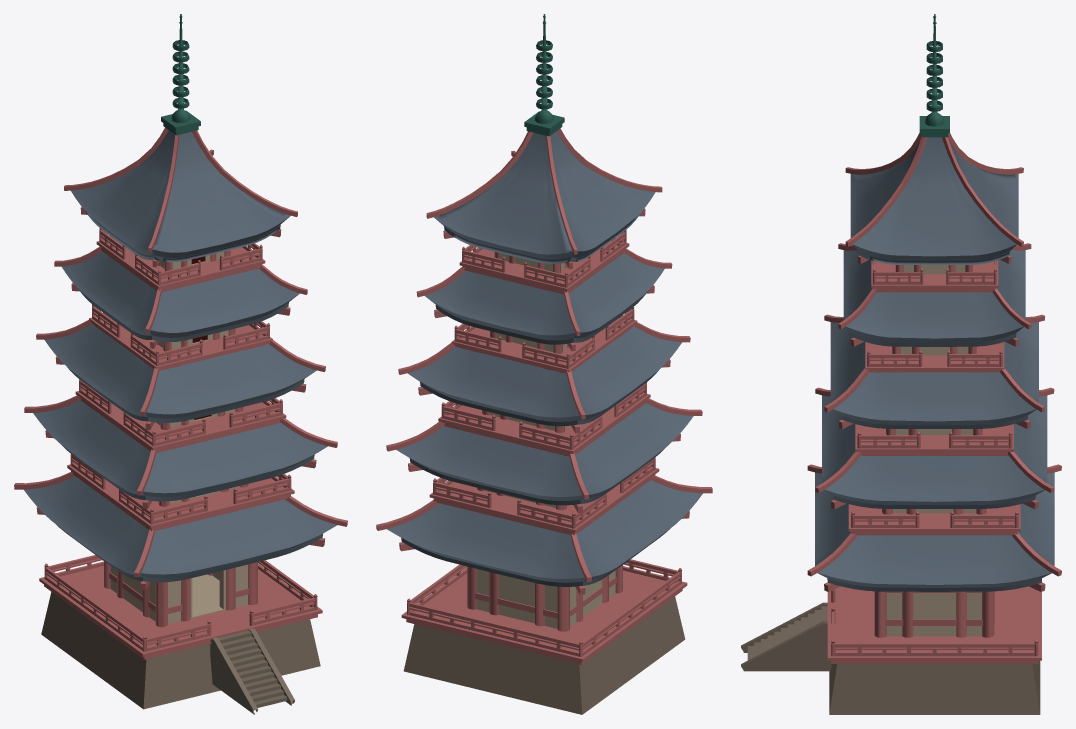
File: Pagoda FBX (Stairs fixed).fbx
The picture shows the model from 3 angles, left to right: view 1: azimuth 30°, elevation 25°; view 2: azimuth 150°, elevation 25°; view 3: azimuth 270°, elevation 25°; orthographic projection. The views are drawn at different scales.
Visible parts, largest first — view 1: polySurface914; view 2: polySurface914; view 3: polySurface914.
Boxes of the visible parts, bbox=[...] form: polySurface914: bbox=[14, 14, 347, 714]; polySurface914: bbox=[376, 14, 712, 714]; polySurface914: bbox=[741, 14, 1061, 714].
Size of the model in its own units: 25.22 by 71.64 by 31.75.
